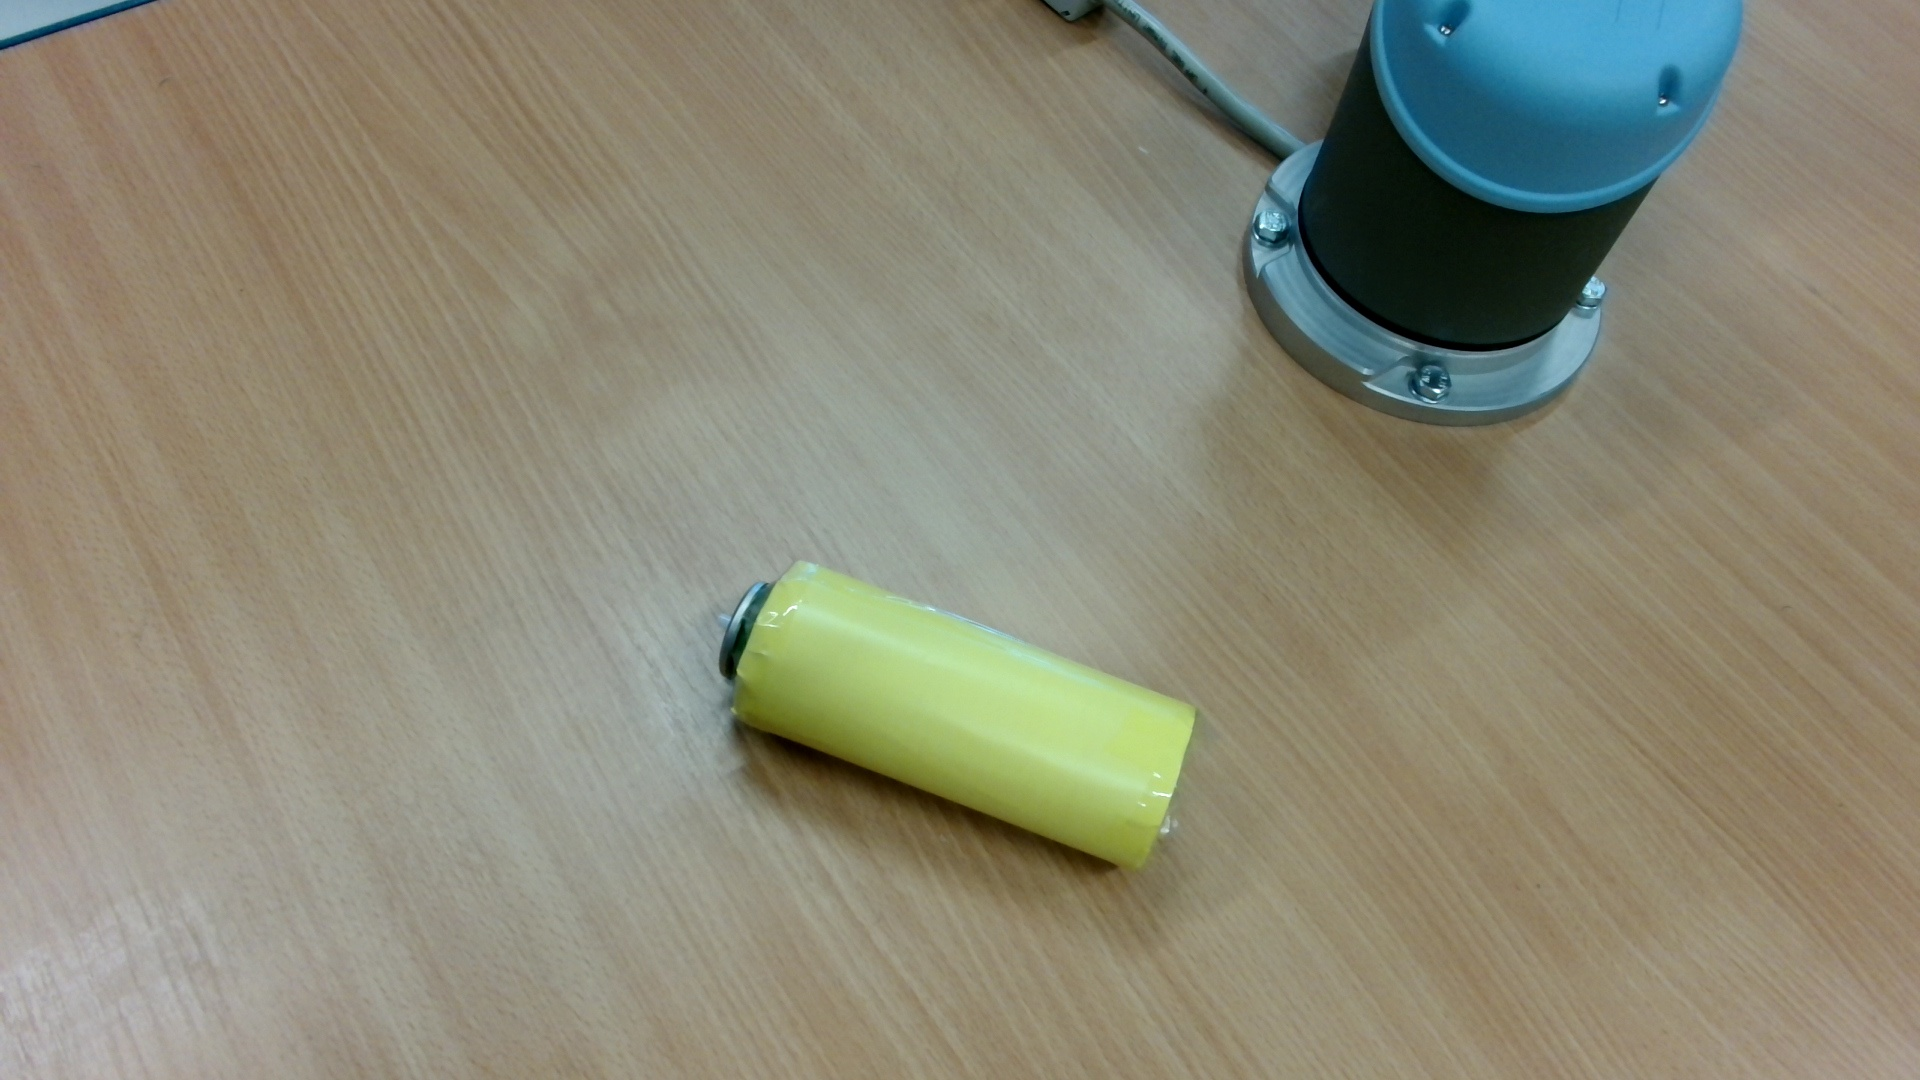Cylinder: (702, 553, 1208, 889)
